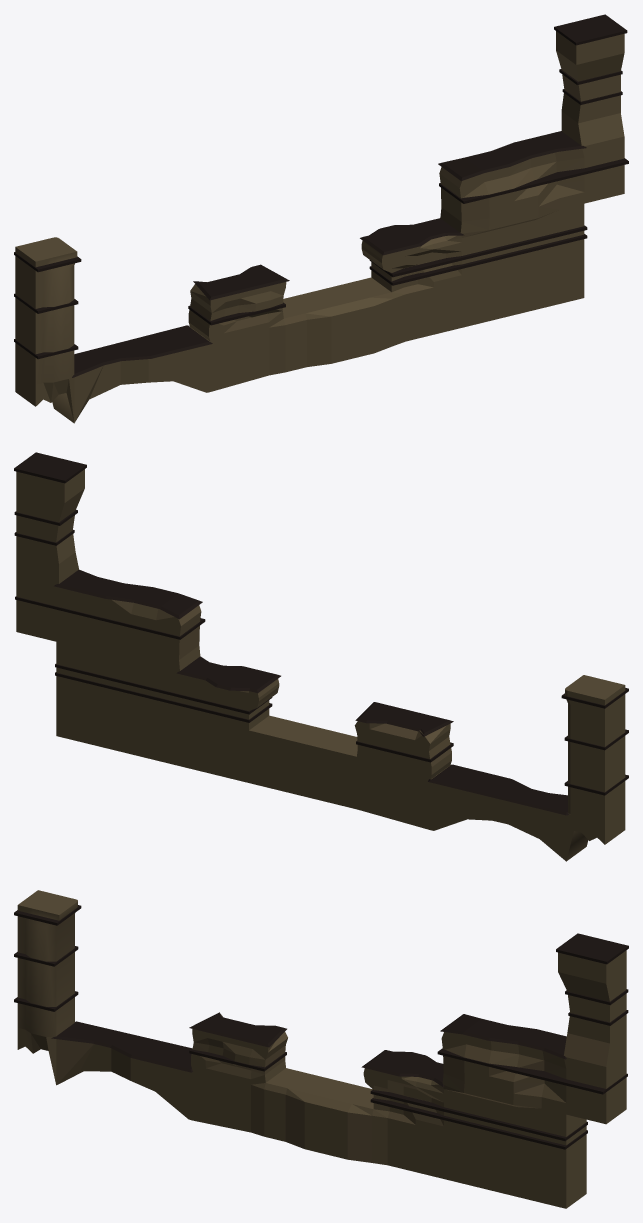
File: map0-2-1.FBX
3 views of the same model, one above another, from view 1: azimuth 30°, elevation 25°; view 2: azimuth 150°, elevation 25°; view 3: azimuth 330°, elevation 25° (orthographic).
Visible parts, largest first — view 1: Map0-2-1; view 2: Map0-2-1; view 3: Map0-2-1.
Part boxes in pixels (left/top/right/bottom): Map0-2-1: left=14, top=14, right=628, bottom=423; Map0-2-1: left=14, top=452, right=628, bottom=861; Map0-2-1: left=14, top=890, right=628, bottom=1208.
Bounding box in the file's own units: 728 × 64.78 × 307.
